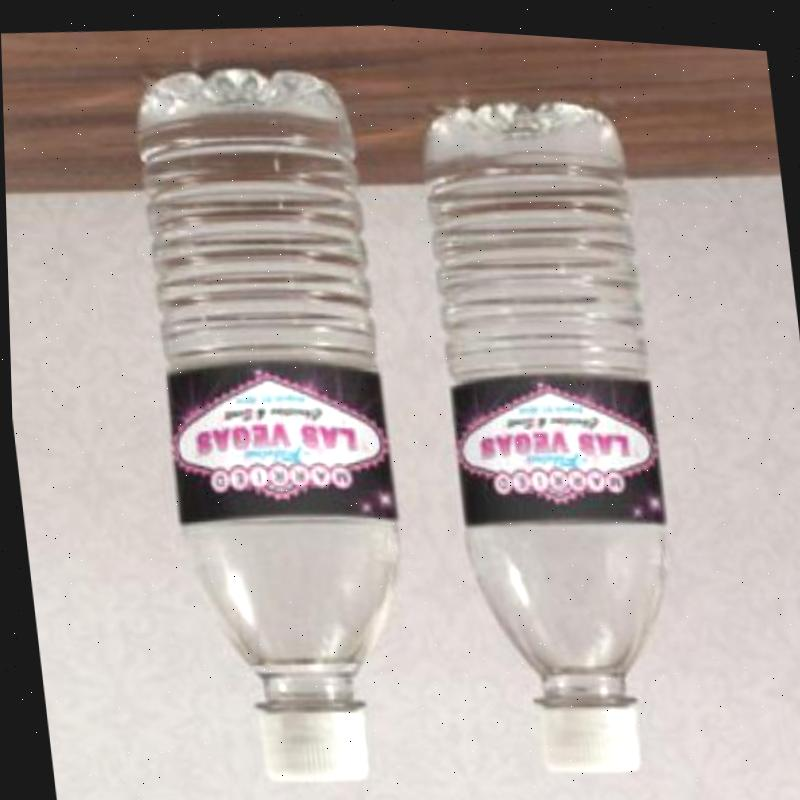botella: (127, 51, 427, 794), (414, 81, 693, 780)
